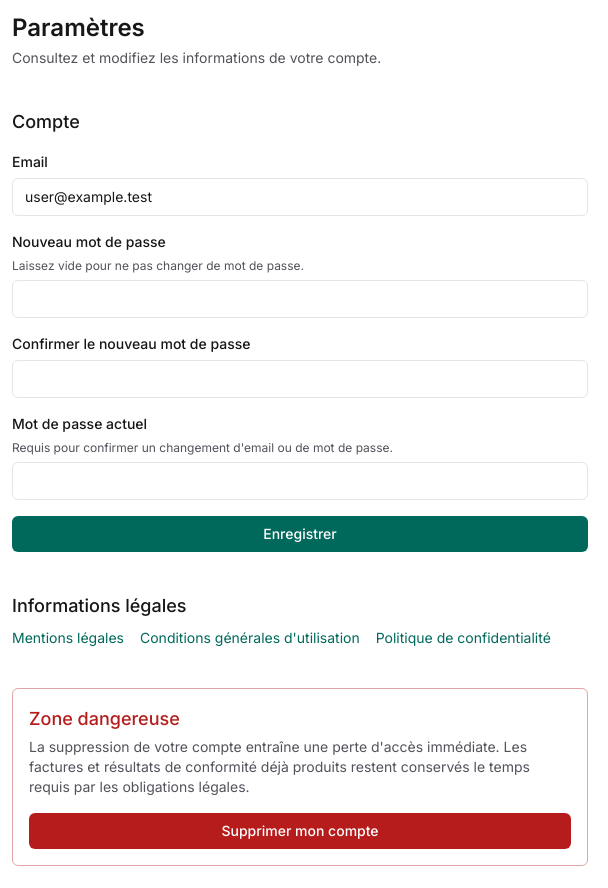
Test: SettingsForm › submits an email change and shows the re-verification message
The width and height of the screenshot is (608, 888).
Replace the text in the field labelled "Email" with "new@example.test": point(300, 197) [12,178,588,216]
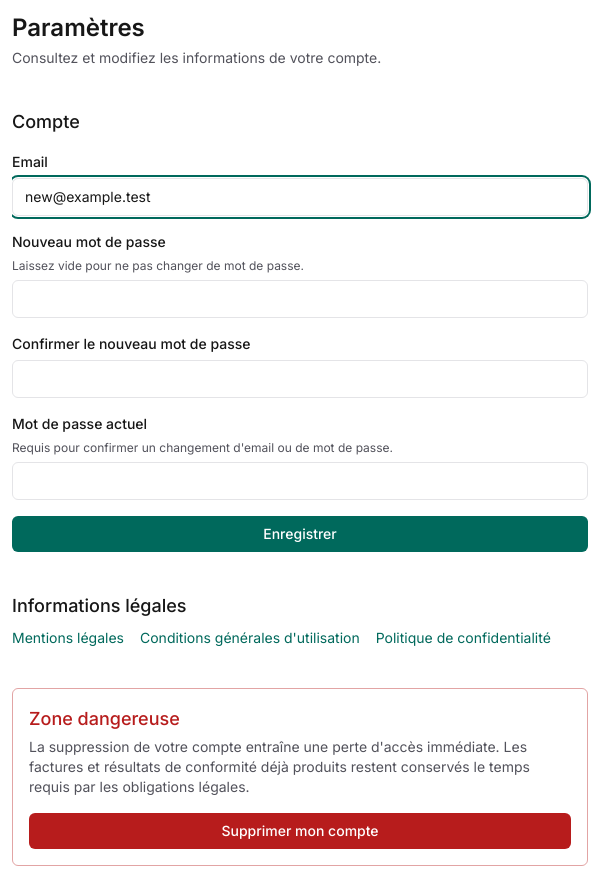
In the password field labelled "Mot de passe actuel": point(300, 481) [12,462,588,500], type "a-very-long-password-1234"
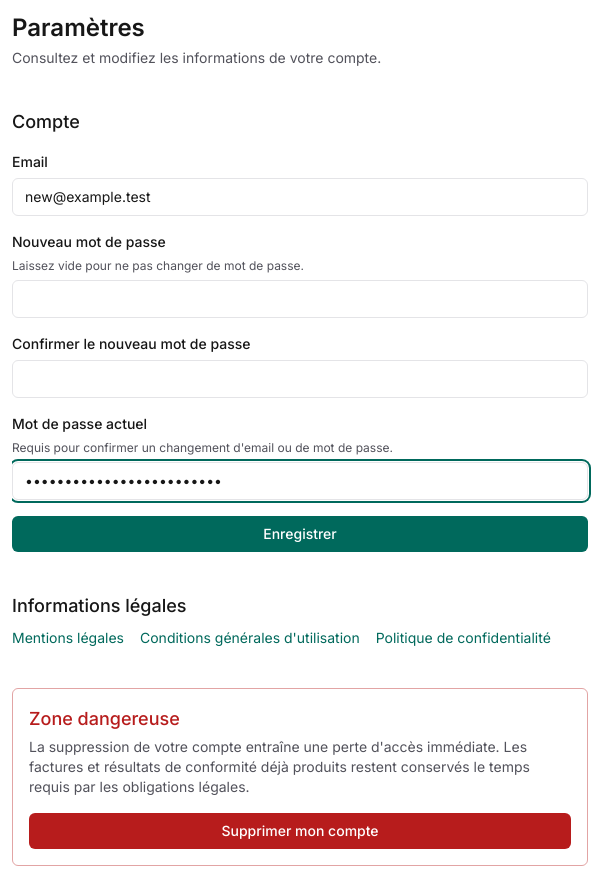
Click the button "Enregistrer": point(300, 534) [12,516,588,552]
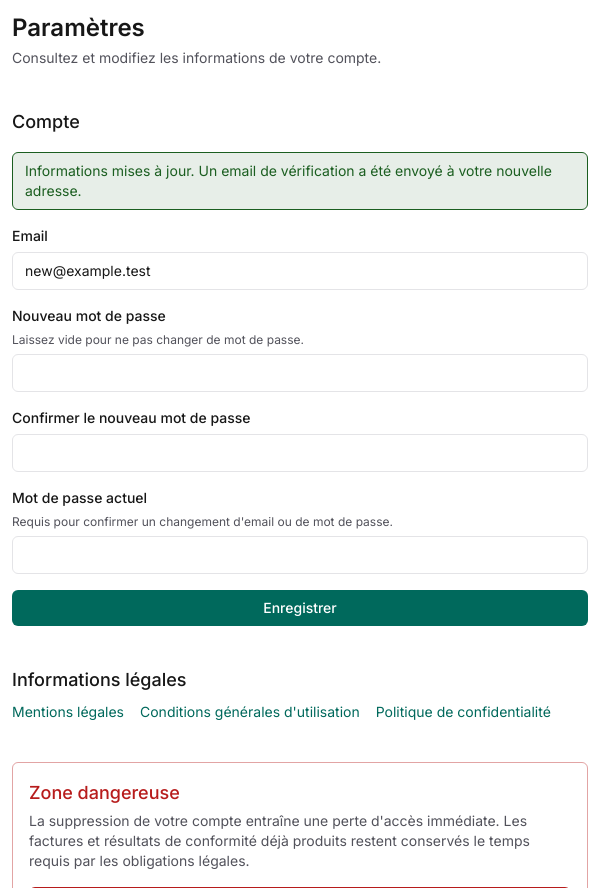
Expected: the text "email de vérification a été envoyé" is shown, [25,162,552,199]
